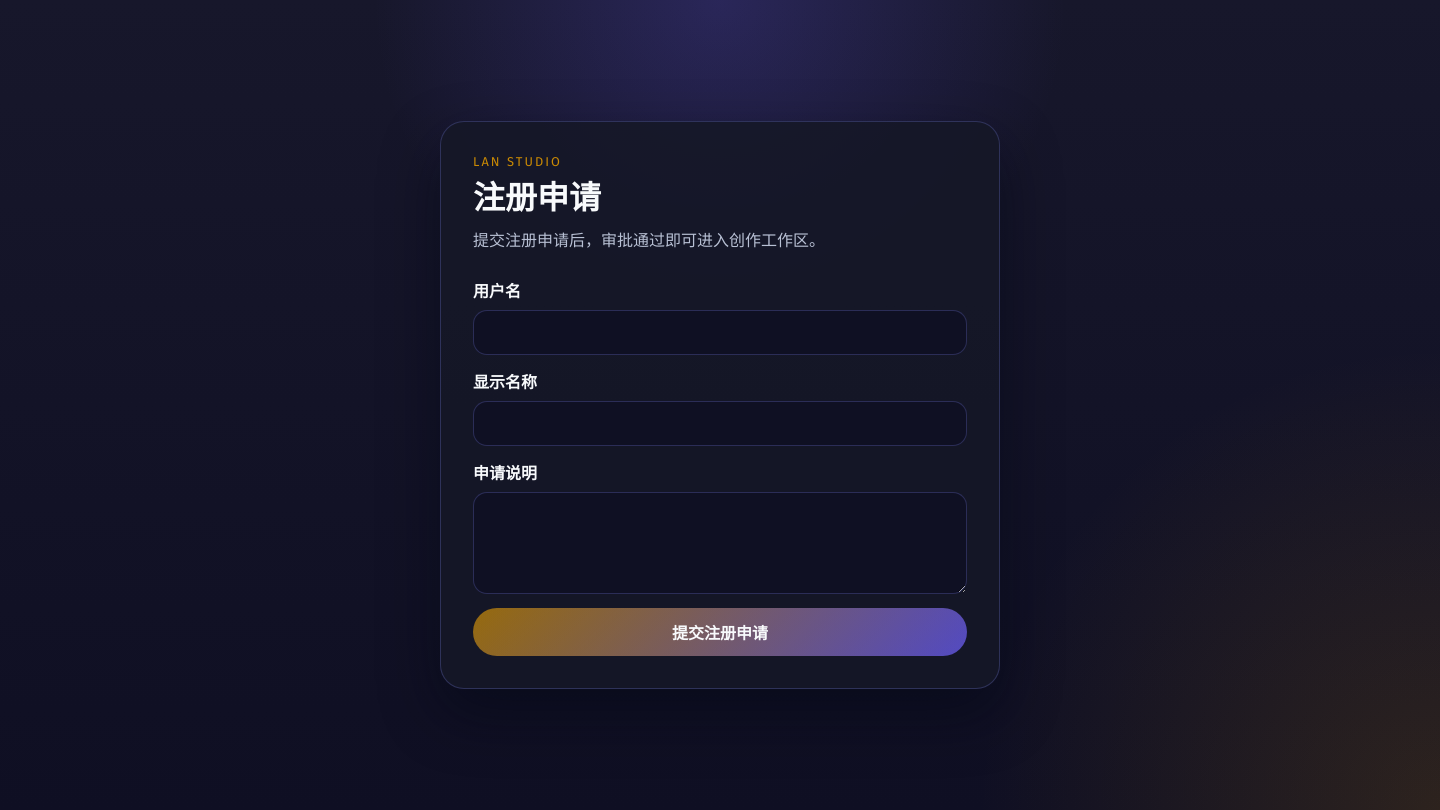
Test: register request page › announces submit failures with alert semantics
Click the button "提交注册申请". click: (720, 632)
box: [473, 608, 967, 656]
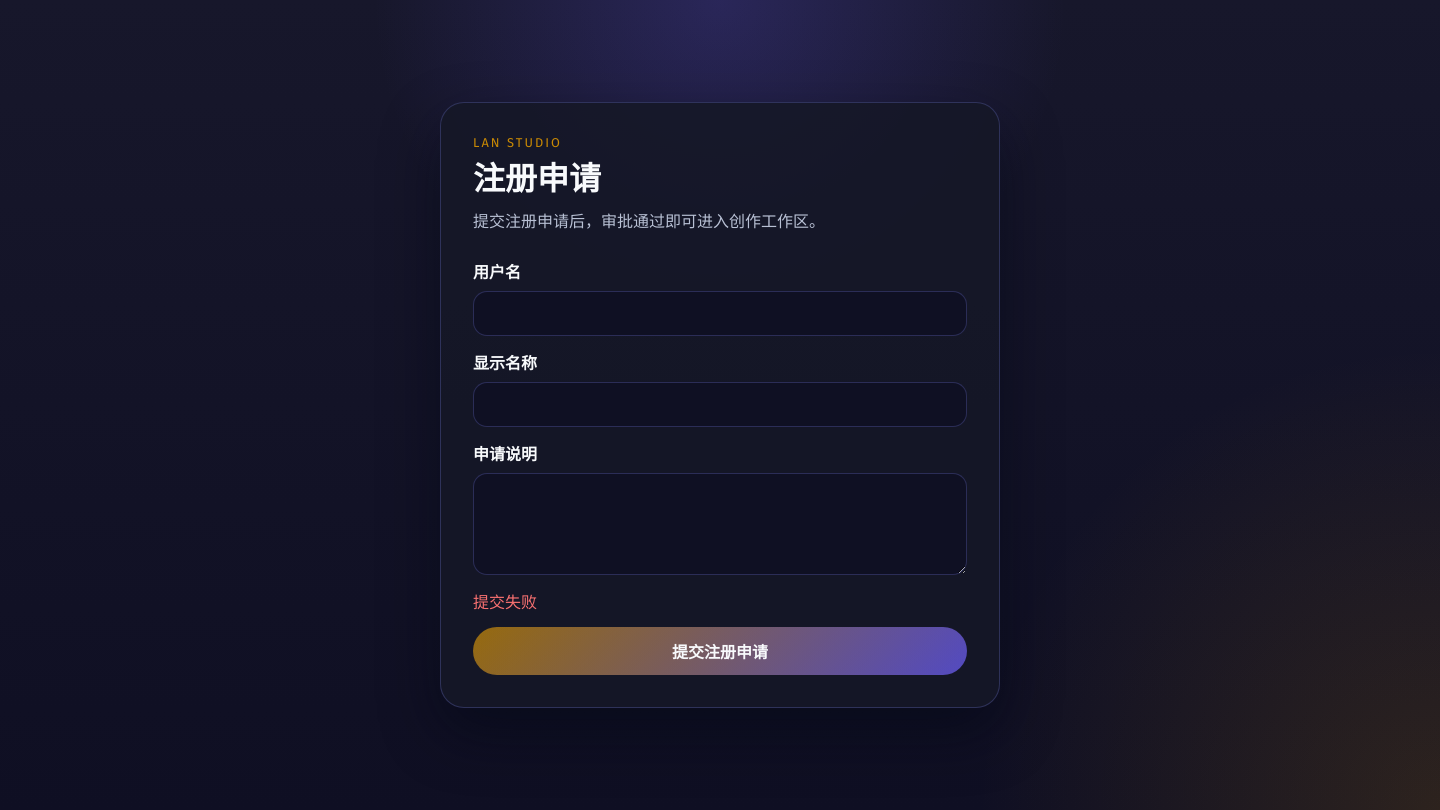
Now the message reads "提交失败", box [473, 593, 537, 612]
